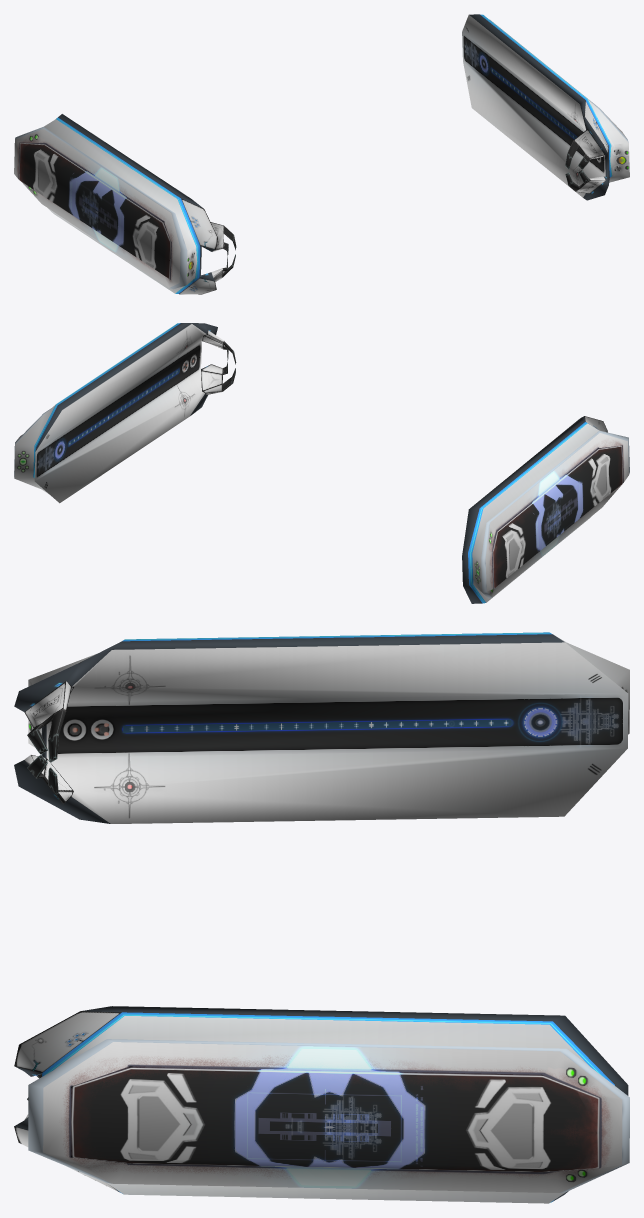
Rendered from SensoresInfo.fbx.
The picture shows the model from 3 angles, top to bottom: view 1: azimuth 30°, elevation 25°; view 2: azimuth 150°, elevation 25°; view 3: azimuth 270°, elevation 25°; orthographic projection. The views are drawn at different scales.
Visible parts, largest first — view 1: Brazos; view 2: Brazos; view 3: Brazos.
Boxes of the visible parts, box(x1,y1,x2,y2) form: Brazos: box(14, 14, 629, 294); Brazos: box(14, 323, 629, 603); Brazos: box(14, 632, 629, 1203).
Bounding box in the file's own units: 1.75 × 0.3352 × 1.04.
1 material, 1 textured.
